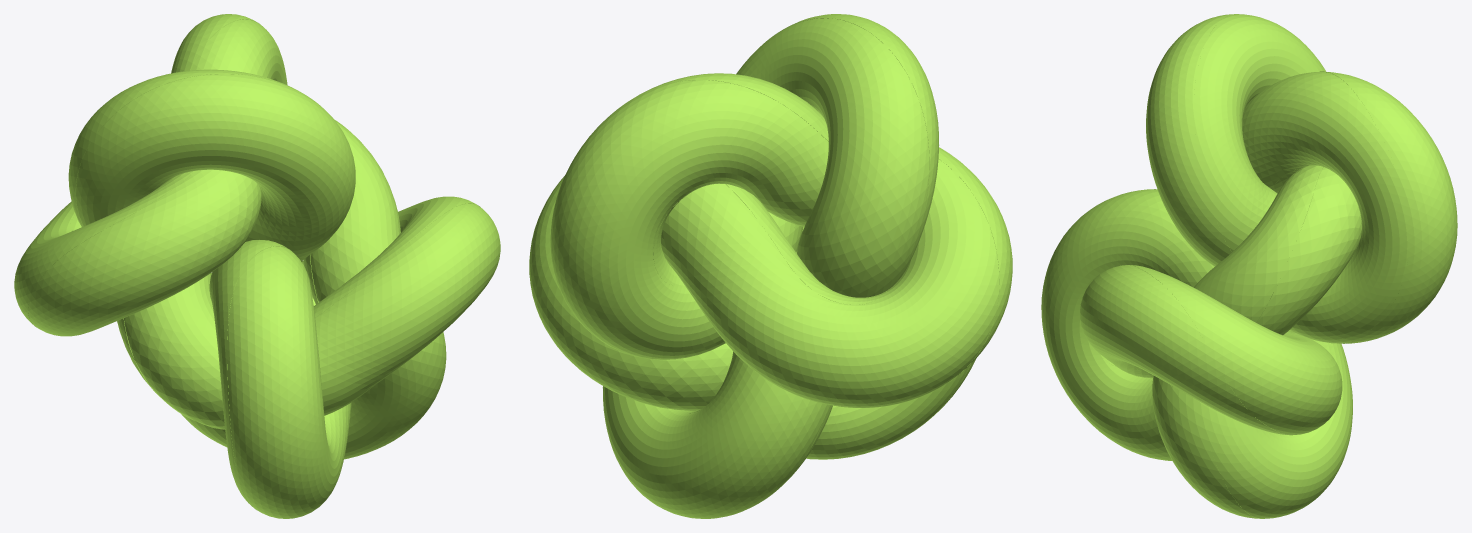
Rendered from gem_667216446.gltf.
The picture shows the model from 3 angles, left to right: view 1: azimuth 30°, elevation 25°; view 2: azimuth 150°, elevation 25°; view 3: azimuth 270°, elevation 25°; orthographic projection. The views are drawn at different scales.
Size of the model in its own units: 1.41 by 1.39 by 1.23.
